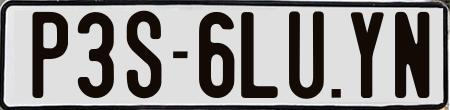3: (76, 11, 115, 99)
6: (197, 11, 234, 101)
L: (238, 12, 277, 103)
N: (392, 9, 432, 101)
P: (31, 10, 72, 101)
S: (127, 8, 162, 99)
U: (289, 10, 324, 104)
Y: (350, 12, 386, 100)
